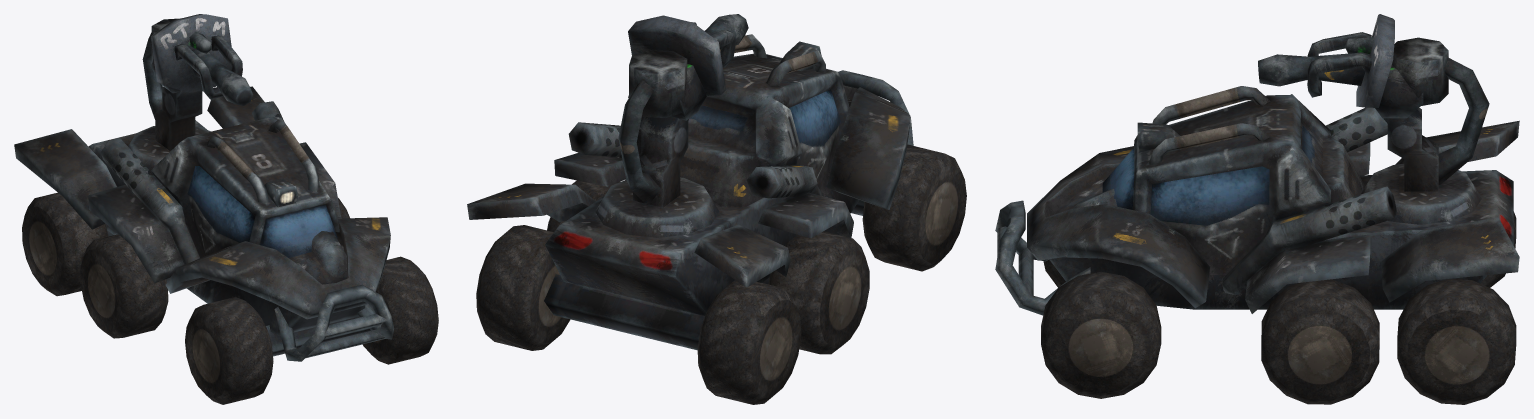
The model's file is Stinger.glb.
3 renders of one model, left to right at view 1: azimuth 30°, elevation 25°; view 2: azimuth 150°, elevation 25°; view 3: azimuth 270°, elevation 25°, orthographic. The views are drawn at different scales.
Visible parts, largest first — view 1: Mesh; view 2: Mesh; view 3: Mesh.
Boxes of the visible parts, bbox=[...] form: Mesh: bbox=[14, 14, 438, 404]; Mesh: bbox=[467, 14, 966, 404]; Mesh: bbox=[995, 14, 1519, 404].
Bounding box in the file's own units: 1.14 × 1.25 × 1.86.
1 material, 1 textured.
